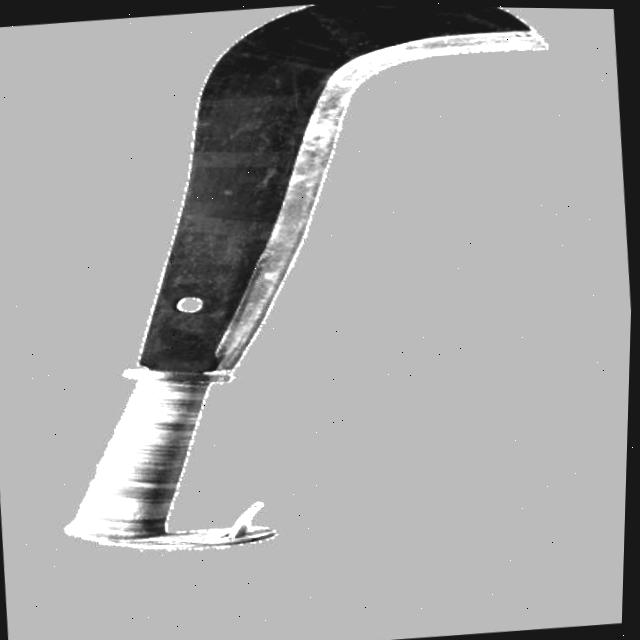long knife: (0, 0, 600, 566)
